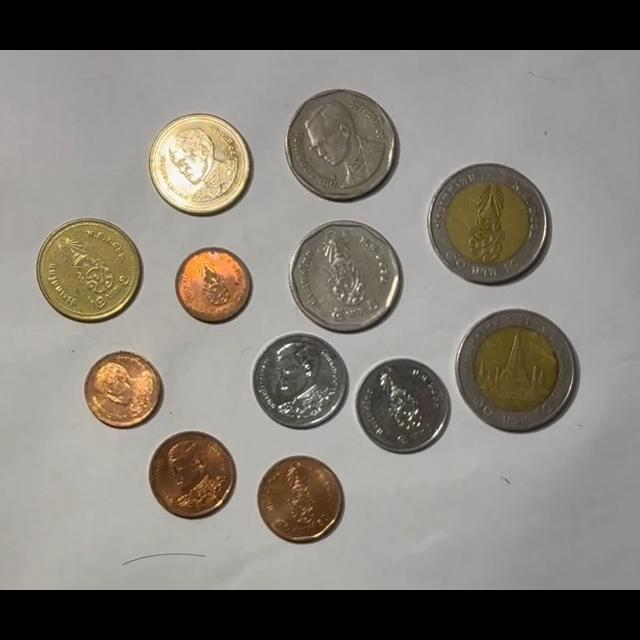1-baht: (251, 332, 348, 429), (355, 357, 451, 453)
10-baht: (456, 310, 579, 434), (428, 163, 550, 284)
2-baht: (37, 219, 142, 323), (148, 113, 252, 217)
25-satang: (84, 351, 162, 428), (175, 247, 252, 323)
5-baht: (284, 89, 399, 202), (289, 220, 402, 332)
50-satang: (148, 431, 236, 518), (257, 456, 344, 543)
